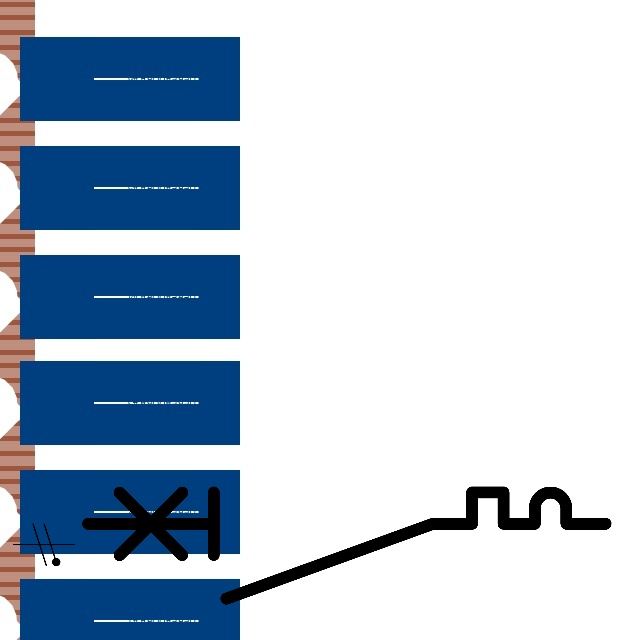interruptor_termomagnetico: (74, 479, 618, 612)
